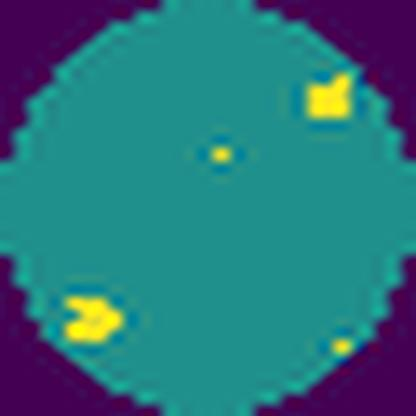Edge-Loc: (62, 290, 128, 350), (299, 70, 358, 129)
